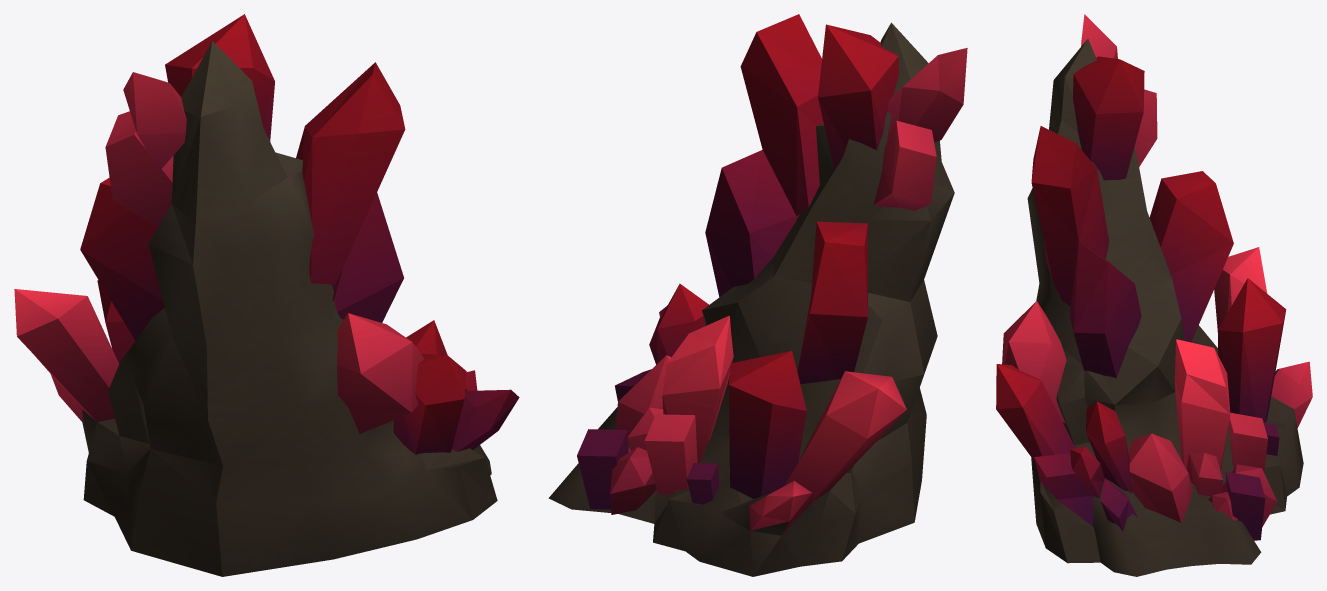
The model's file is ZLP_Crystalk_B_6.FBX.
3 views of the same model, side by side, from view 1: azimuth 30°, elevation 25°; view 2: azimuth 150°, elevation 25°; view 3: azimuth 270°, elevation 25° (orthographic). The views are drawn at different scales.
Parts seen in each view (by area): view 1: ZLP_Crystalk_B_6; view 2: ZLP_Crystalk_B_6; view 3: ZLP_Crystalk_B_6.
Part boxes in pixels (x1,y1,x2,y2): ZLP_Crystalk_B_6: (14,14,519,576); ZLP_Crystalk_B_6: (548,14,967,576); ZLP_Crystalk_B_6: (996,14,1312,576).
Bounding box in the file's own units: 268 × 320 × 220.
